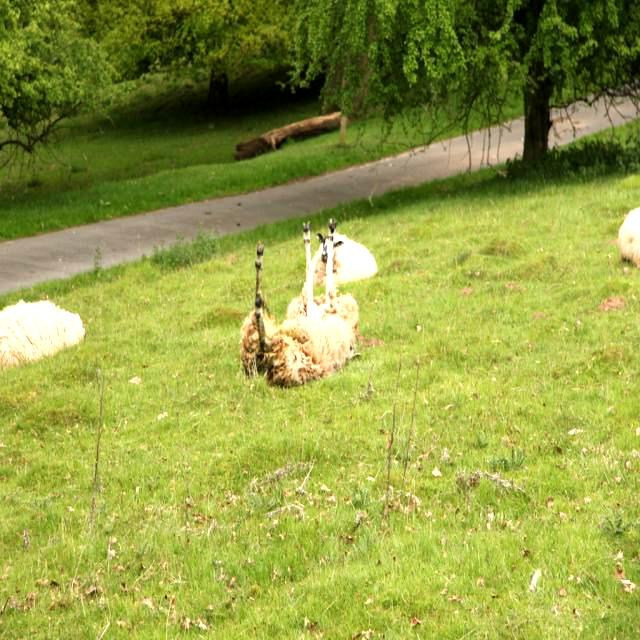sheep: (239, 218, 357, 389), (0, 299, 85, 366), (312, 232, 375, 282), (618, 207, 639, 265)
